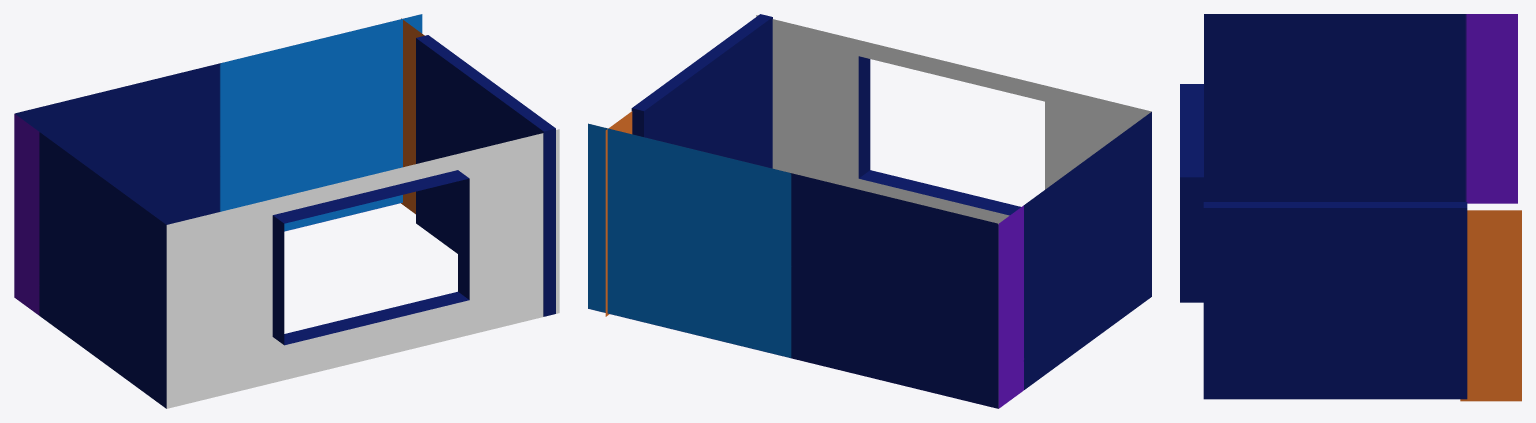
File: Paredes.glb
3 views of the same model, side by side, from view 1: azimuth 30°, elevation 25°; view 2: azimuth 150°, elevation 25°; view 3: azimuth 270°, elevation 25° (orthographic). The views are drawn at different scales.
Parts seen in each view (by area): view 1: Janela, Plane.001, Parede_Frontal, Cube.001, Cube.021; view 2: Plane.001, Parede_Frontal, Janela, Cube.001, Cube.021; view 3: Parede_Frontal, Cube.001, Cube.021, Janela.
Part boxes in pixels (x1,y1,x2,y2): Janela: (166,129,559,408); Plane.001: (14,14,422,231); Parede_Frontal: (14,114,166,408); Cube.001: (416,35,555,316); Cube.021: (401,18,424,214); Plane.001: (588,123,998,408); Parede_Frontal: (998,112,1151,408); Janela: (756,15,1151,223); Cube.001: (631,14,772,168); Cube.021: (605,111,632,316); Parede_Frontal: (1204,14,1517,203); Cube.001: (1203,202,1467,399); Cube.021: (1460,210,1521,401); Janela: (1180,84,1203,302).
Size of the model in its own units: 9.28 by 4.08 by 6.53.
1 material, 1 textured.
